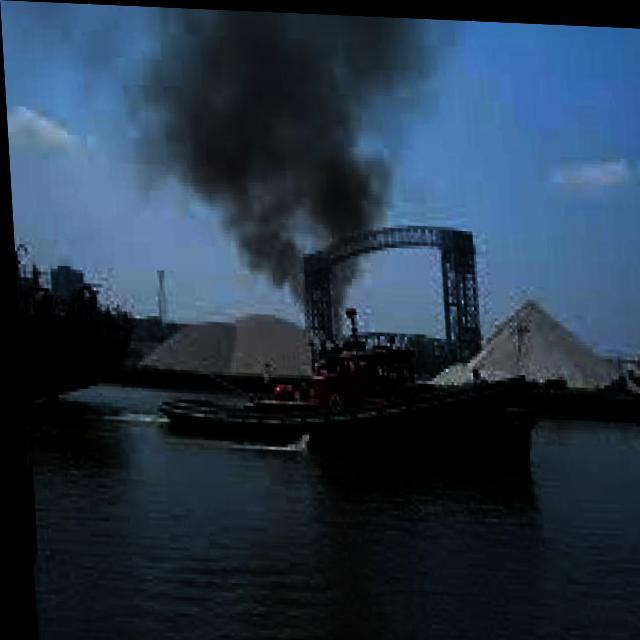Smoke: (123, 4, 455, 315)
